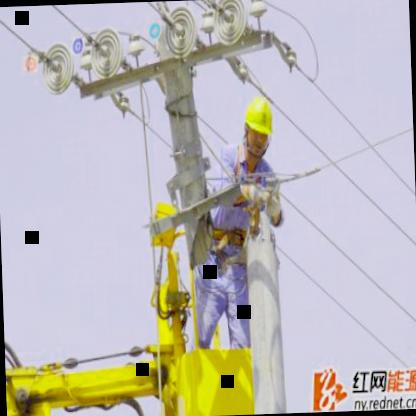helmet: (236, 84, 278, 168)
